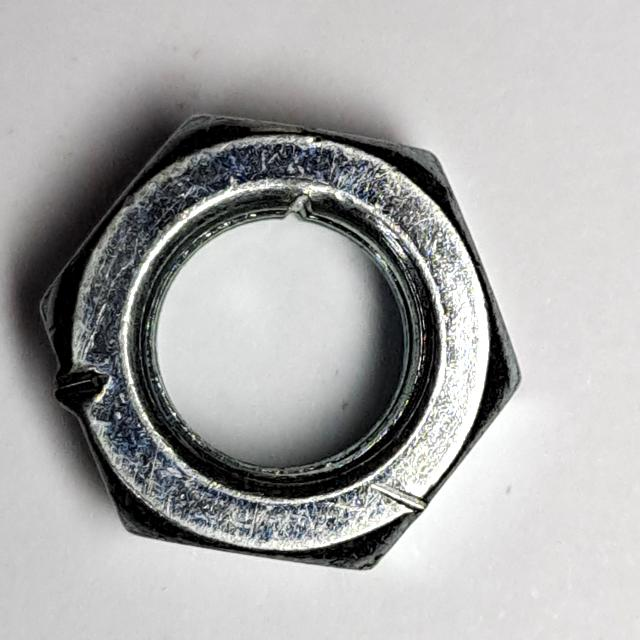Scratches: (32, 96, 536, 590)
